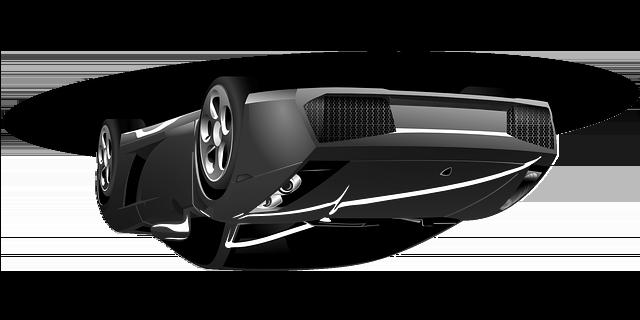Non_Gorille: (76, 39, 564, 320)
